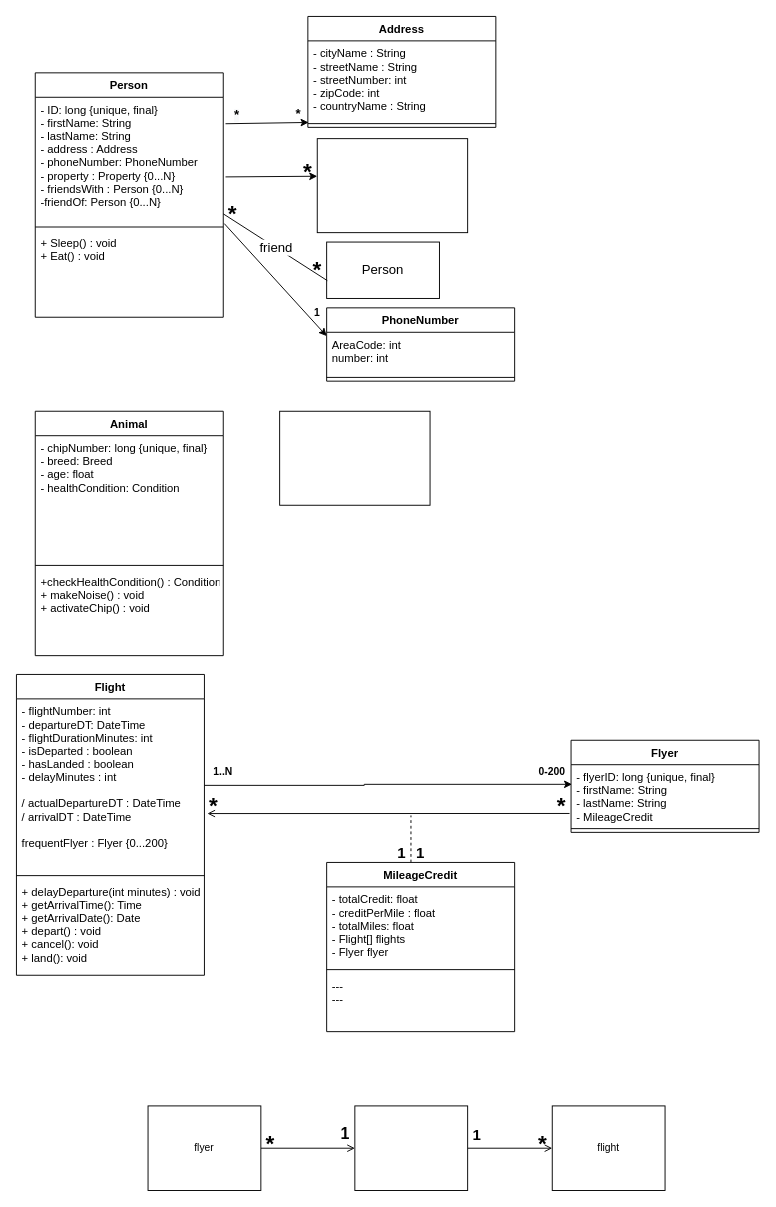
This 776x1207 diagram has some shape labels left out. Each missing label, with the centre of its shape:
"<<Enumeration>> Condition GOOD FINE BAD" belongs at [354,457].
"<<Enumeration>> Property CAR HOUSE APARTMENT" belongs at [392,185].
"credit" belongs at [411,1148].
